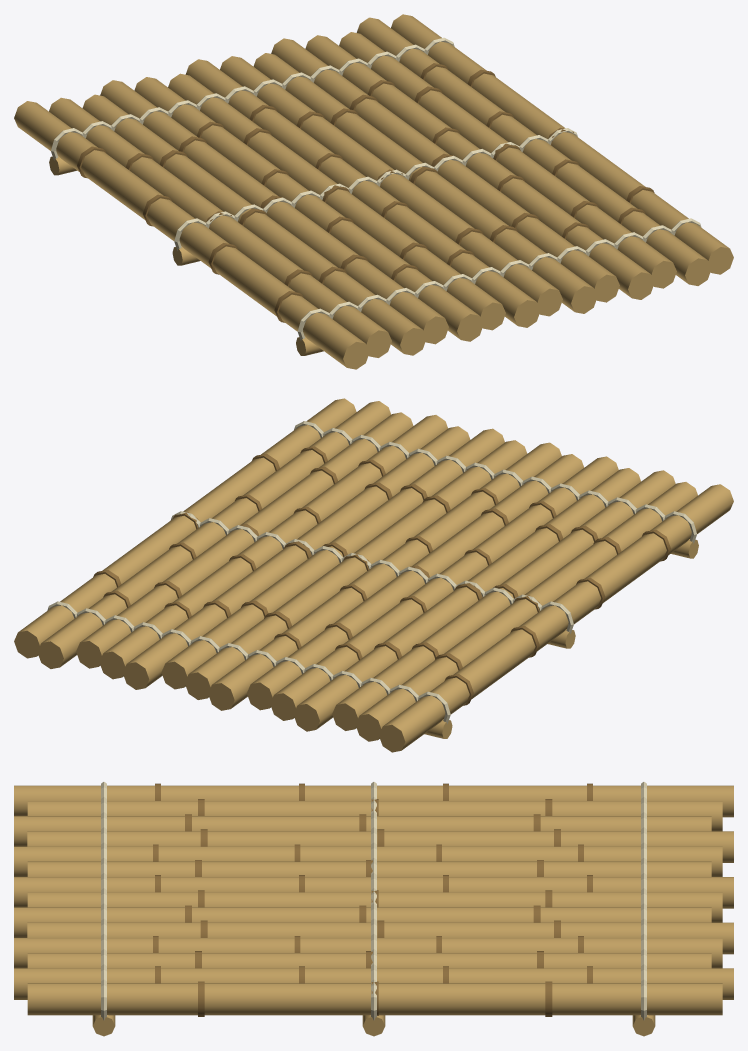
Rendered from raft.glb.
3 renders of one model, top to bottom at view 1: azimuth 30°, elevation 25°; view 2: azimuth 150°, elevation 25°; view 3: azimuth 270°, elevation 25°, orthographic. The views are drawn at different scales.
Visible parts, largest first — view 1: bamboo_0, bamboo_52, bamboo_26, bamboo_17, bamboo_43, bamboo_39, bamboo_13, bamboo_35, bamboo_9, bamboo_5, bamboo_57, bamboo_31 (+2 smaller); view 2: bamboo_0, bamboo_52, bamboo_26, bamboo_13, bamboo_39, bamboo_17, bamboo_43, bamboo_57, bamboo_5, bamboo_31, bamboo_35, bamboo_9 (+2 smaller); view 3: bamboo_57, bamboo_0, bamboo_52, bamboo_26, bamboo_17, bamboo_39, bamboo_13, bamboo_31, bamboo_35, bamboo_9, bamboo_43, bamboo_22 (+5 smaller).
Boxes of the visible parts, left/top/right/bottom form: bamboo_0: left=14, top=101, right=369, bottom=369; bamboo_52: left=356, top=17, right=711, bottom=285; bamboo_26: left=185, top=59, right=540, bottom=327; bamboo_17: left=134, top=77, right=483, bottom=341; bamboo_43: left=305, top=35, right=654, bottom=299; bamboo_39: left=271, top=38, right=619, bottom=302; bamboo_13: left=100, top=80, right=448, bottom=344; bamboo_35: left=253, top=53, right=597, bottom=313; bamboo_9: left=82, top=94, right=426, bottom=355; bamboo_5: left=49, top=97, right=391, bottom=357; bamboo_57: left=391, top=14, right=733, bottom=274; bamboo_31: left=220, top=56, right=562, bottom=316; bamboo_0: left=379, top=484, right=733, bottom=752; bamboo_52: left=37, top=401, right=390, bottom=668; bamboo_26: left=208, top=442, right=561, bottom=710; bamboo_13: left=293, top=468, right=640, bottom=731; bamboo_39: left=123, top=426, right=470, bottom=689; bamboo_17: left=270, top=456, right=618, bottom=720; bamboo_43: left=99, top=415, right=447, bottom=679; bamboo_57: left=14, top=398, right=356, bottom=658; bamboo_5: left=355, top=482, right=697, bottom=741; bamboo_31: left=185, top=440, right=527, bottom=699; bamboo_35: left=161, top=428, right=504, bottom=689; bamboo_9: left=332, top=470, right=675, bottom=730; bamboo_57: left=27, top=983, right=722, bottom=1015; bamboo_0: left=14, top=785, right=733, bottom=817; bamboo_52: left=14, top=968, right=733, bottom=999; bamboo_26: left=14, top=877, right=733, bottom=908; bamboo_17: left=14, top=846, right=722, bottom=876; bamboo_39: left=27, top=922, right=733, bottom=954; bamboo_13: left=27, top=831, right=733, bottom=862; bamboo_31: left=27, top=892, right=722, bottom=922; bamboo_35: left=14, top=907, right=711, bottom=937; bamboo_9: left=14, top=816, right=711, bottom=846; bamboo_43: left=14, top=938, right=722, bottom=968; bamboo_22: left=27, top=861, right=711, bottom=876.
Size of the model in its own units: 2.28 by 0.2292 by 3.2.
